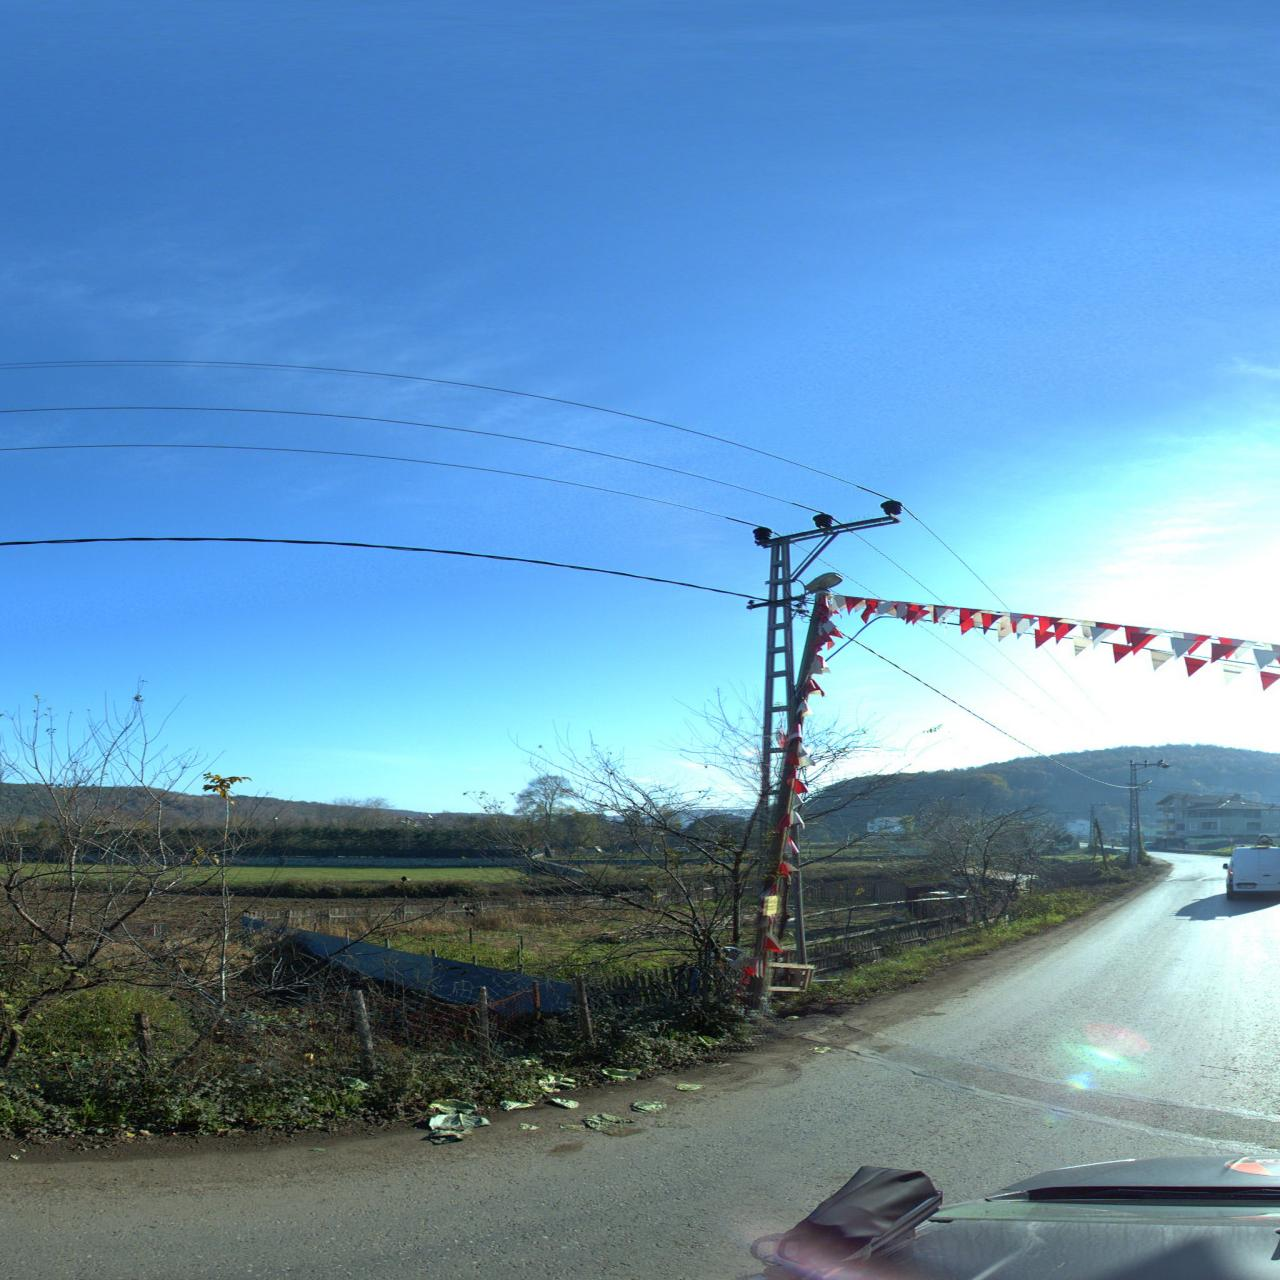Utility Pole Information Plate: (760, 893, 781, 921)
